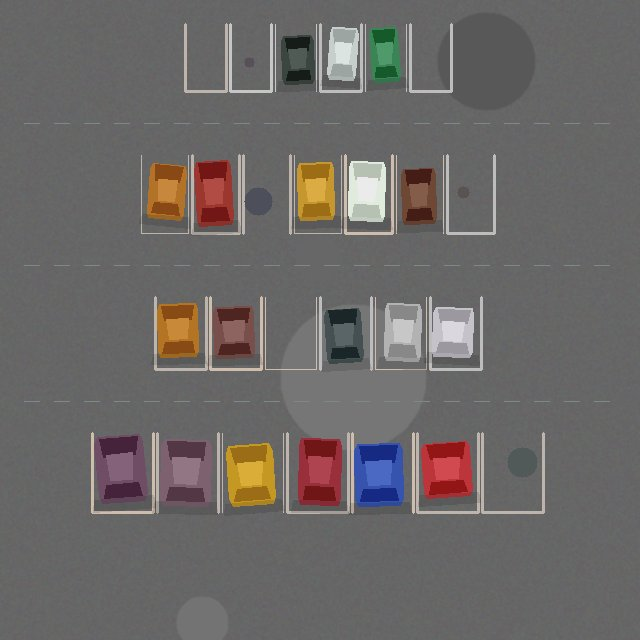space-empty: (482, 433, 543, 512), (265, 297, 316, 369), (243, 155, 290, 233), (447, 155, 494, 233), (185, 24, 226, 91), (230, 24, 271, 91), (410, 24, 451, 91)
space-occupied: (92, 433, 153, 512), (157, 433, 218, 512), (222, 433, 283, 512), (287, 433, 348, 512), (352, 433, 413, 512), (417, 433, 478, 512), (155, 297, 206, 369), (210, 297, 261, 369), (320, 297, 371, 369), (375, 297, 426, 369), (430, 297, 481, 369), (141, 155, 188, 233), (192, 155, 239, 233), (294, 155, 341, 233), (345, 155, 392, 233), (396, 155, 443, 233), (275, 24, 316, 91), (320, 24, 361, 91), (365, 24, 406, 91)
